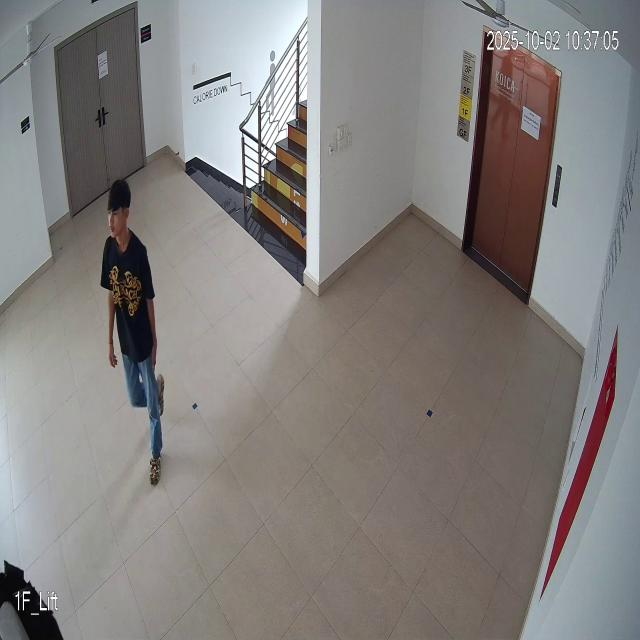face: (102, 181, 134, 241)
